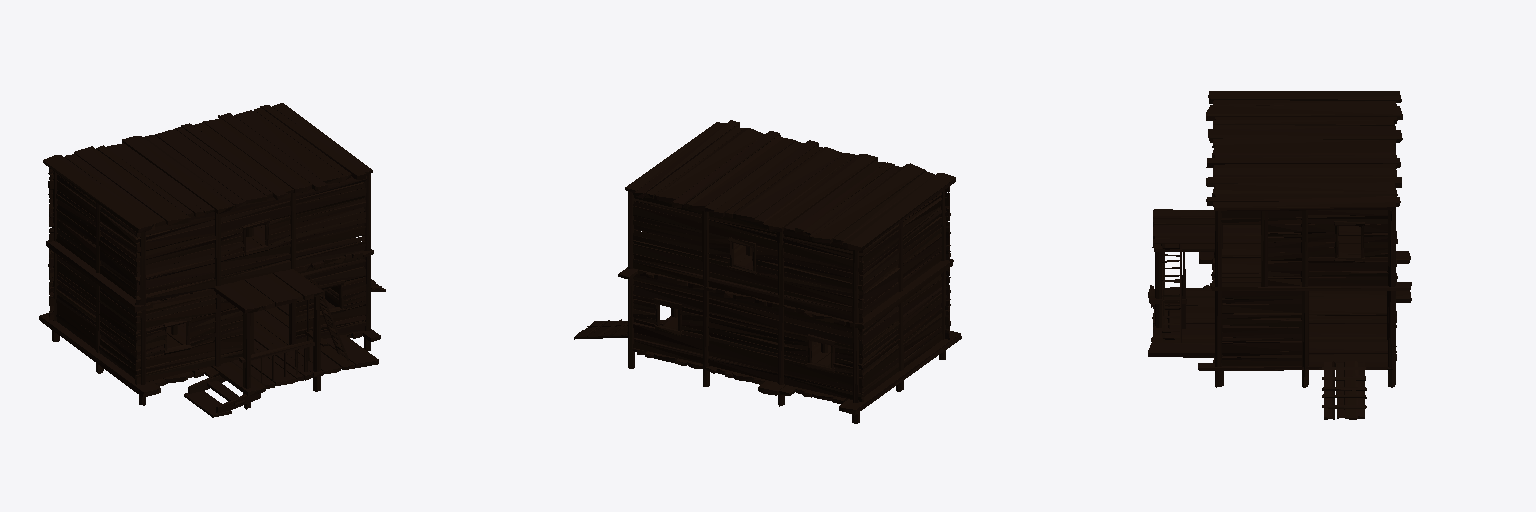
File: -LOD0_hut_005.obj
3 views of the same model, side by side, from view 1: azimuth 30°, elevation 25°; view 2: azimuth 150°, elevation 25°; view 3: azimuth 270°, elevation 25° (orthographic).
Visible parts, largest first — view 1: Cylinder.000; view 2: Cylinder.000; view 3: Cylinder.000.
Part boxes in pixels (bbox=[...]): Cylinder.000: bbox=[39, 103, 385, 417]; Cylinder.000: bbox=[574, 120, 961, 423]; Cylinder.000: bbox=[1148, 91, 1411, 419].
Size of the model in its own units: 16.39 by 9.31 by 12.23.